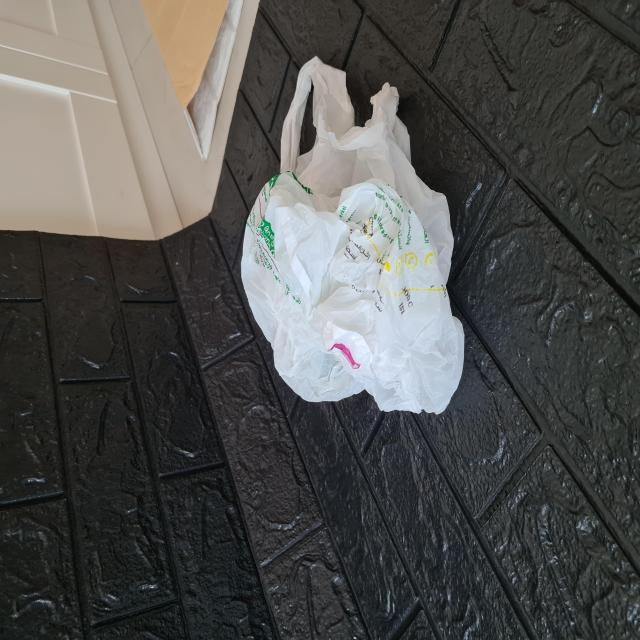plastic bag: (238, 55, 466, 419)
